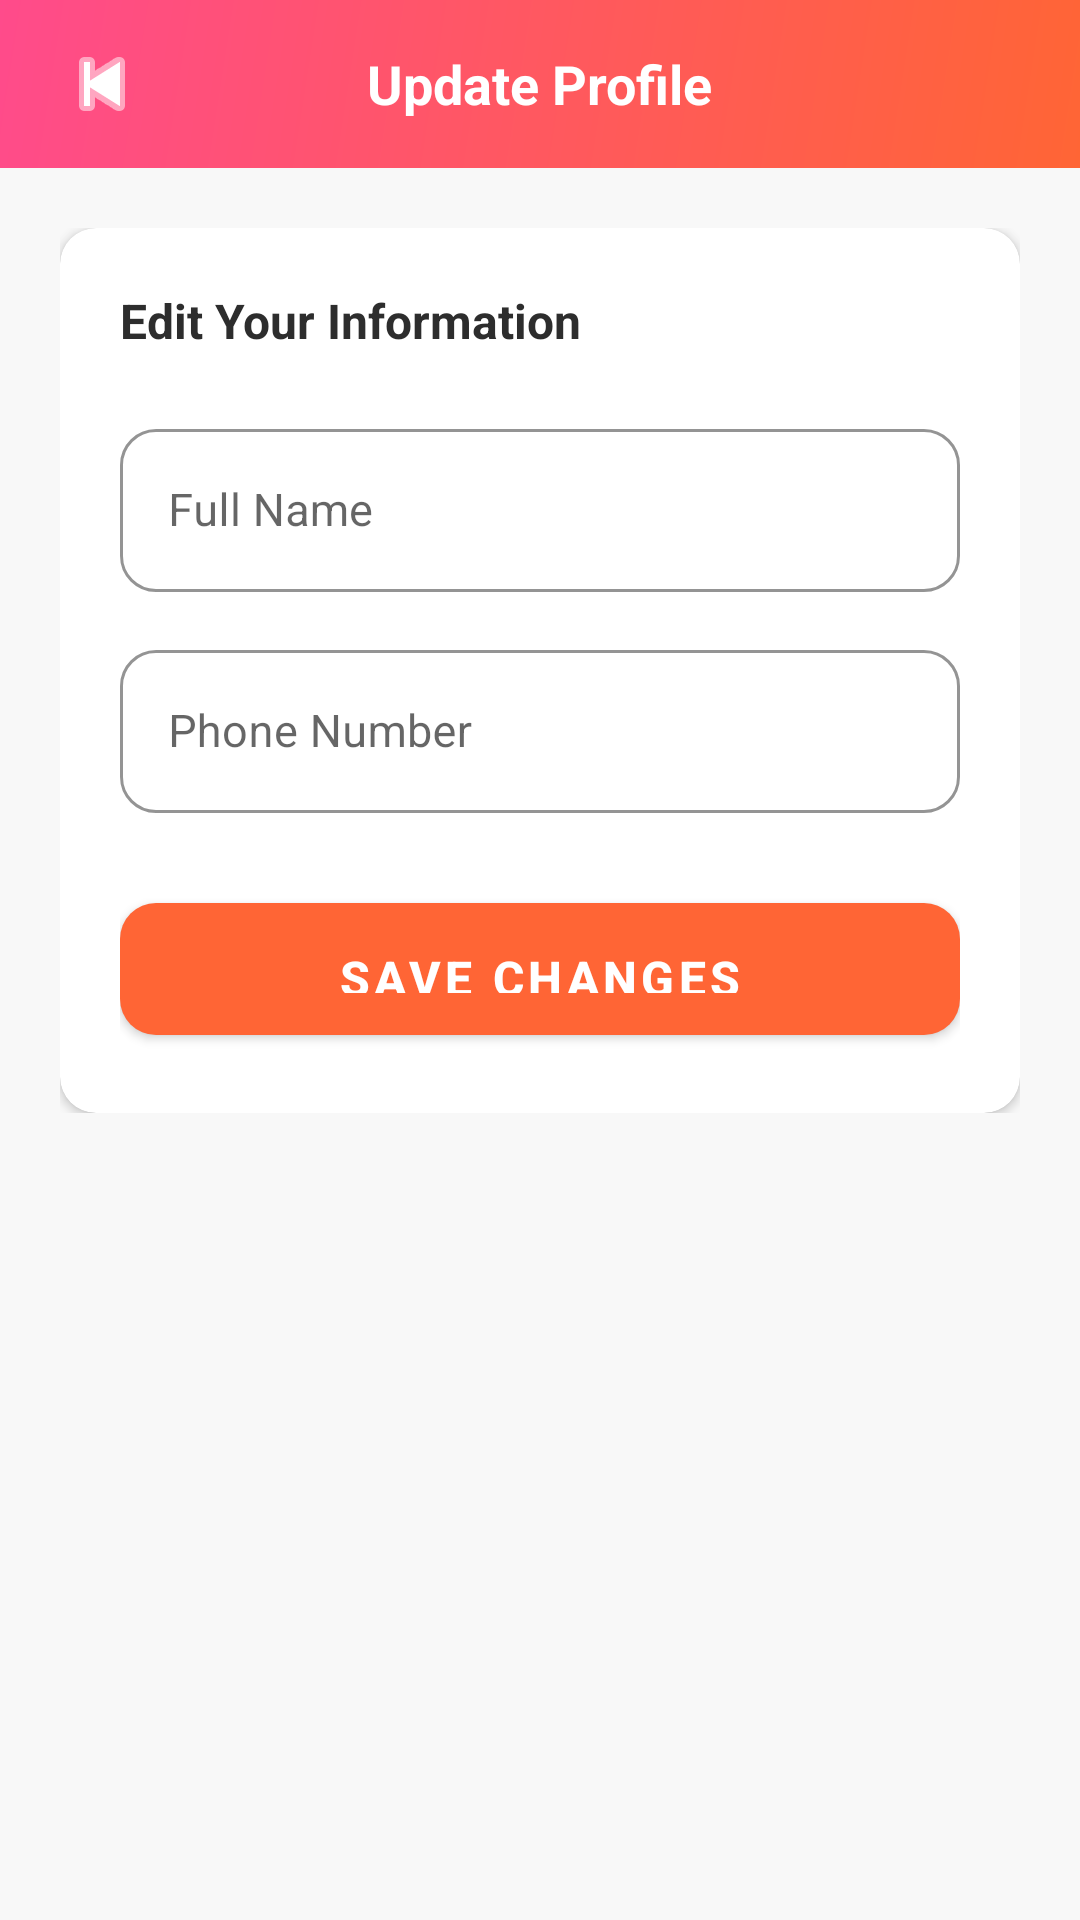

Point at icon controls on the screen. Image size 1080×1920, points as point (x, y).
Back: point (102, 84)
